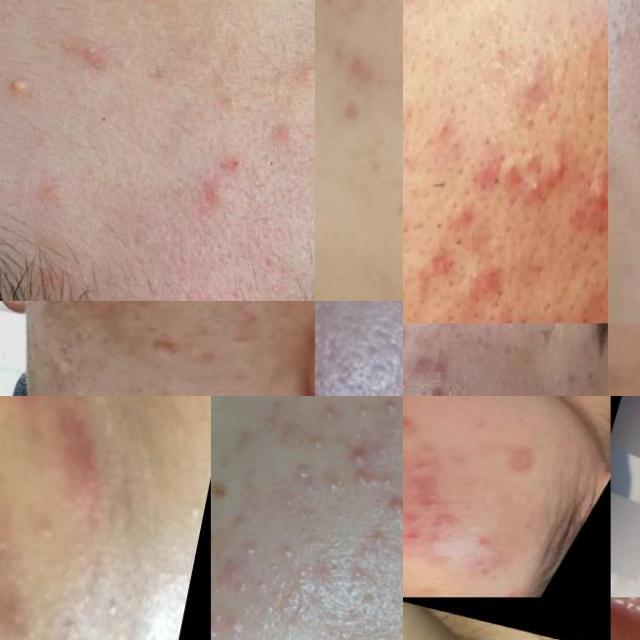acne_scars: (44, 406, 119, 502), (316, 46, 391, 134), (140, 322, 193, 381), (323, 0, 402, 25), (495, 441, 553, 473), (403, 405, 448, 442)
comedone: (226, 557, 295, 607), (411, 470, 480, 516), (211, 602, 283, 640), (24, 500, 68, 558), (89, 587, 136, 631), (174, 484, 206, 534), (514, 98, 546, 140), (541, 149, 576, 186), (56, 301, 88, 325), (432, 114, 458, 143), (273, 538, 303, 563), (519, 142, 543, 173), (544, 362, 565, 396), (502, 151, 522, 180), (0, 526, 17, 559), (238, 537, 261, 557)
folliculitis: (403, 89, 414, 147)
papule: (456, 529, 506, 558), (403, 522, 439, 554), (438, 504, 477, 530), (427, 387, 448, 396)
pustule: (335, 440, 387, 492), (351, 527, 396, 573), (8, 72, 48, 109), (290, 456, 325, 489), (379, 489, 403, 529), (337, 399, 369, 428), (521, 170, 549, 202), (297, 427, 326, 448), (379, 396, 403, 420), (319, 402, 338, 426)
sebo-crystan-conglo: (590, 165, 608, 231)
